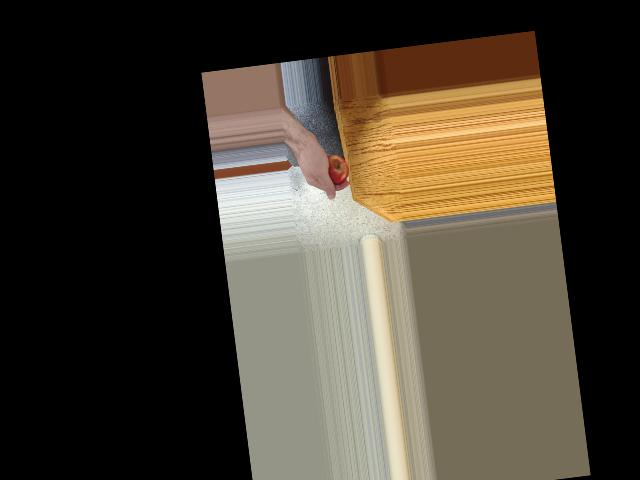apple: (317, 152, 349, 185)
